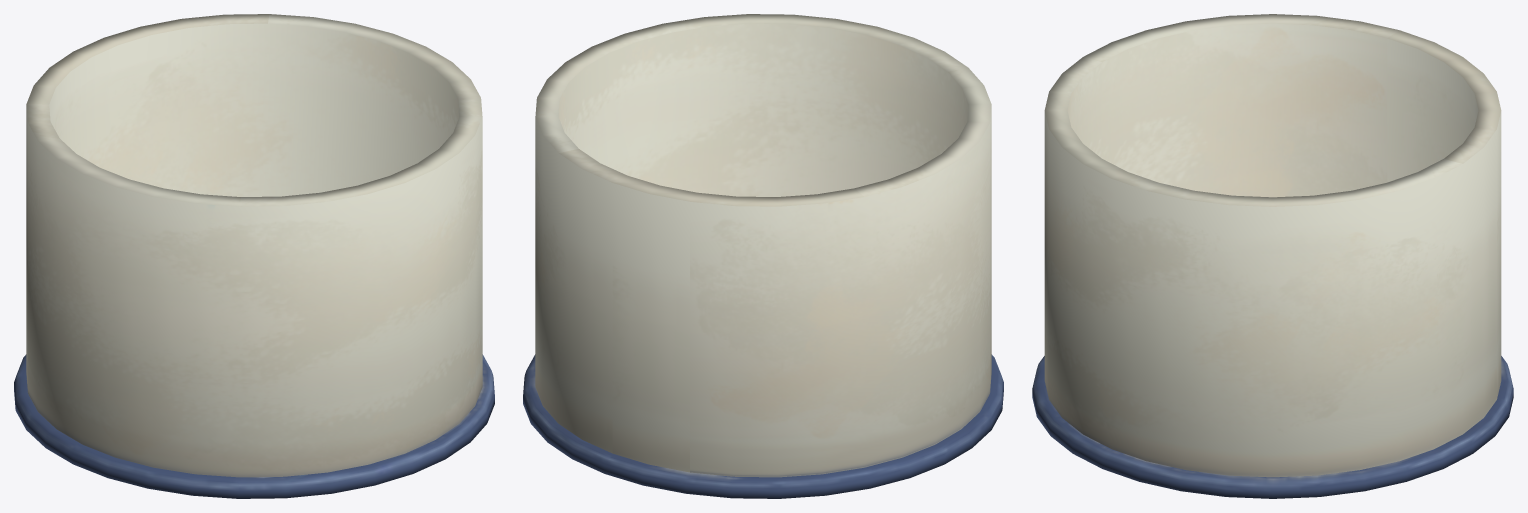
Rendered from SiloInside.fbx.
The picture shows the model from 3 angles, left to right: view 1: azimuth 30°, elevation 25°; view 2: azimuth 150°, elevation 25°; view 3: azimuth 270°, elevation 25°; orthographic projection.
Parts seen in each view (by area): view 1: SiloInside; view 2: SiloInside; view 3: SiloInside.
Part boxes in pixels (left/top/right/bottom): SiloInside: left=14, top=14, right=494, bottom=498; SiloInside: left=523, top=14, right=1003, bottom=498; SiloInside: left=1032, top=14, right=1513, bottom=498.
Bounding box in the file's own units: 14.93 × 9.81 × 14.93.
1 material, 1 textured.
